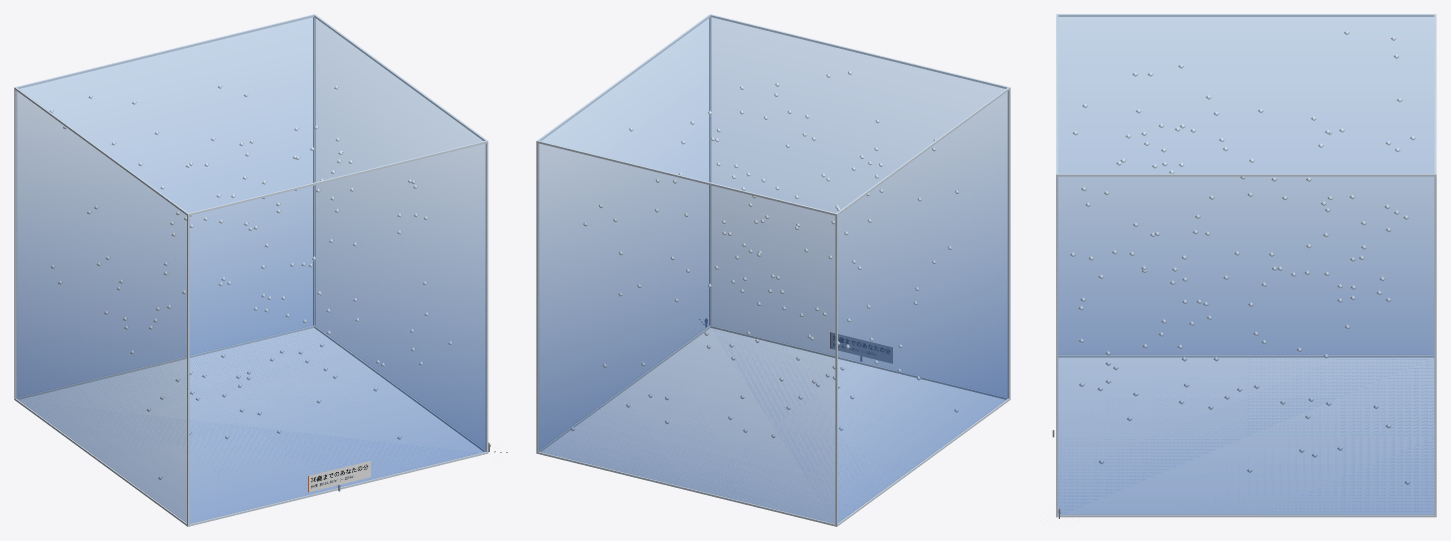
The model's file is cube_life_36.glb.
3 renders of one model, left to right at view 1: azimuth 30°, elevation 25°; view 2: azimuth 150°, elevation 25°; view 3: azimuth 270°, elevation 25°, orthographic. The views are drawn at different scales.
Visible parts, largest first — view 1: co2, edge, dots, label; view 2: co2, edge, dots, label; view 3: co2, edge, dots.
Part boxes in pixels (left/top/right/bottom): co2: left=16, top=15, right=485, bottom=523; edge: left=14, top=14, right=488, bottom=526; dots: left=49, top=84, right=452, bottom=480; label: left=308, top=461, right=370, bottom=492; co2: left=538, top=15, right=1008, bottom=523; edge: left=536, top=14, right=1010, bottom=526; dots: left=570, top=71, right=959, bottom=438; label: left=830, top=332, right=892, bottom=363; co2: left=1057, top=14, right=1434, bottom=514; edge: left=1056, top=14, right=1436, bottom=517; dots: left=1070, top=30, right=1415, bottom=484.
Size of the model in its own units: 60.62 by 56.88 by 59.72.
Materials: 8 (3 with a texture image).
